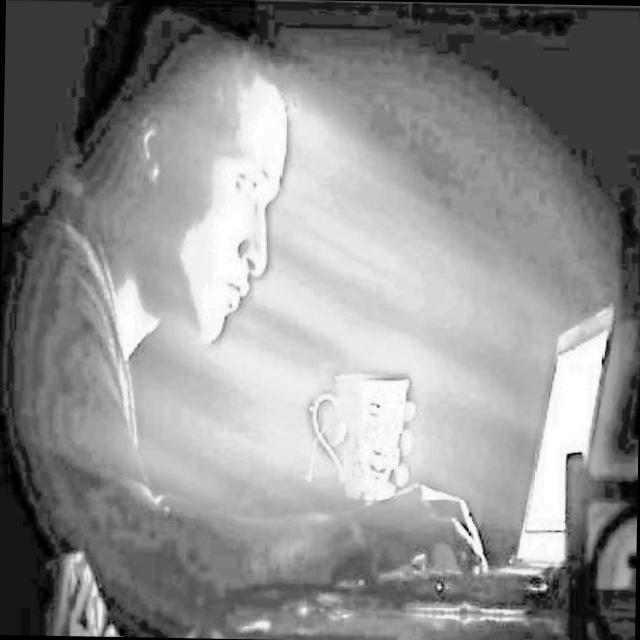Person: (0, 0, 305, 639)
